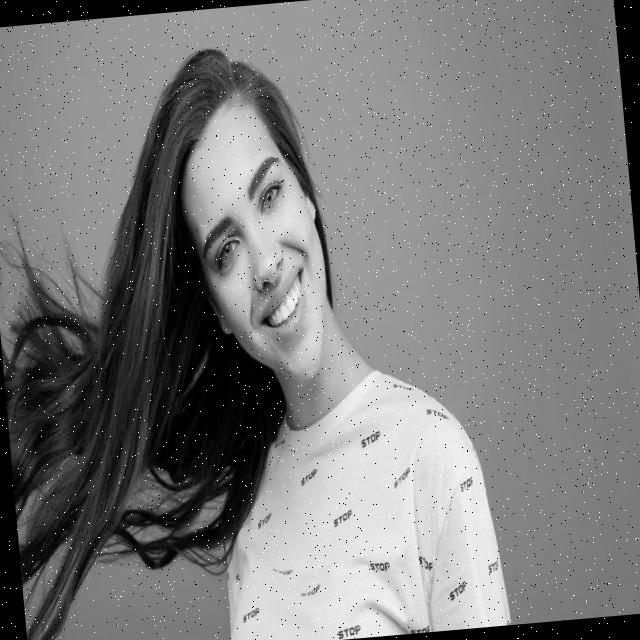Happiness: (168, 85, 340, 396)
